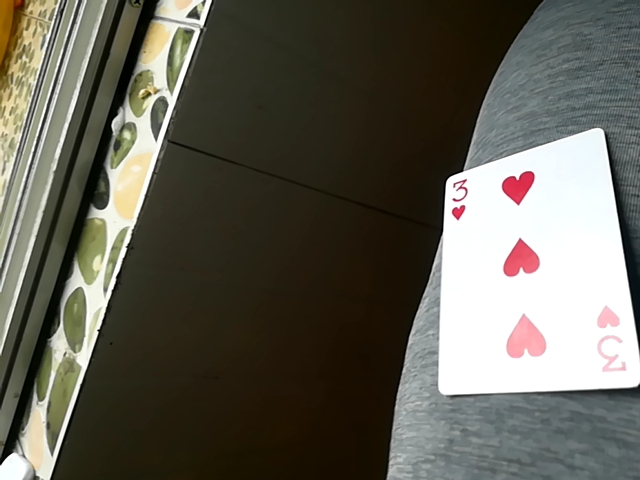hx 3: (432, 125, 636, 399)
